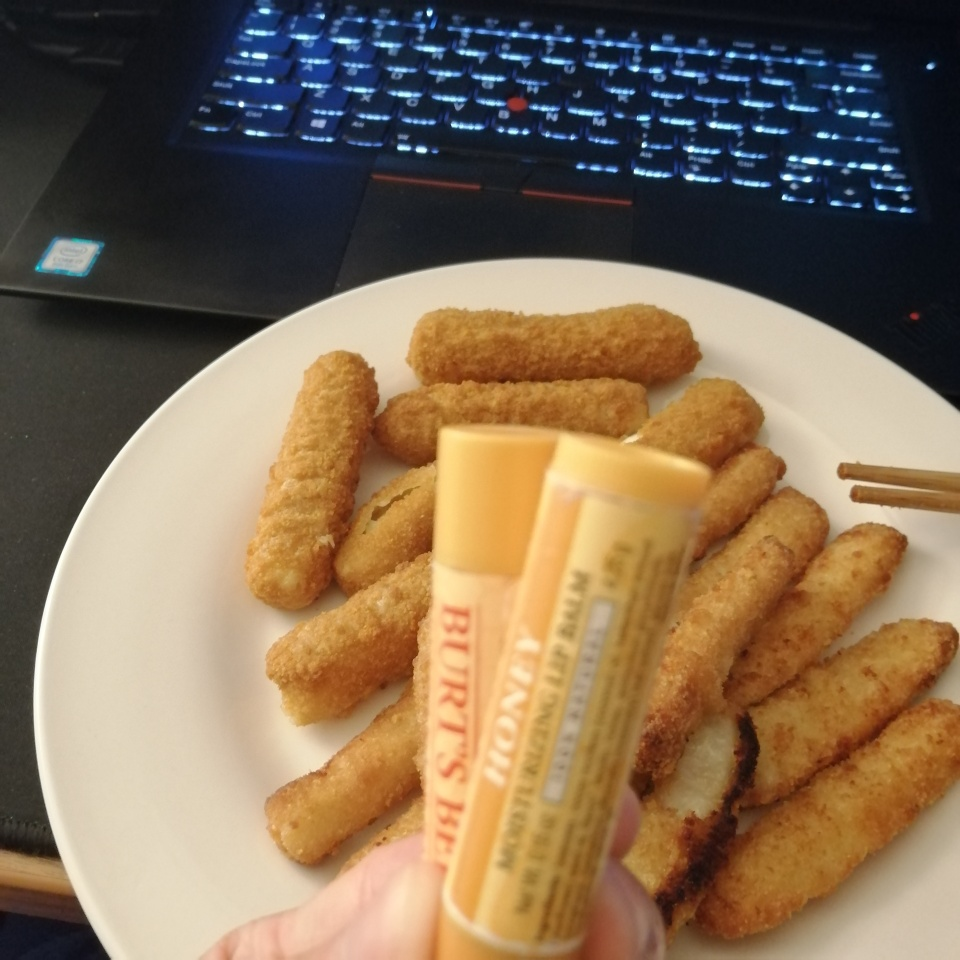chapstick: (436, 431, 712, 960), (426, 422, 557, 870)
